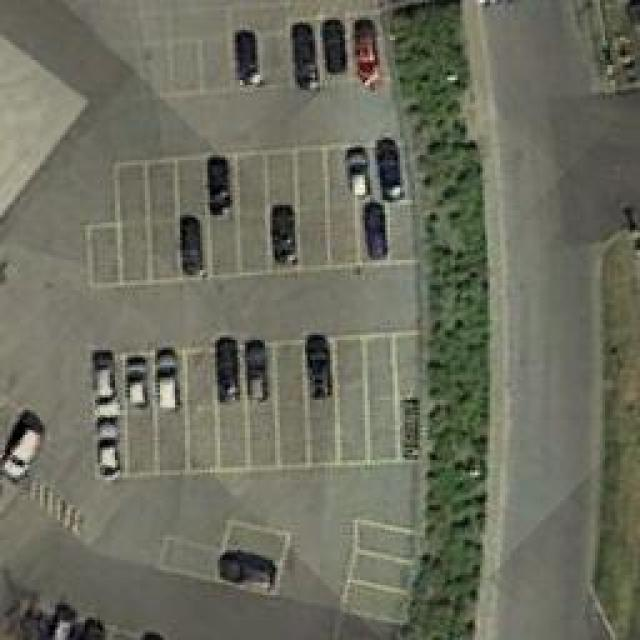Forest: (380, 0, 490, 638)
Parking: (0, 0, 638, 638)
